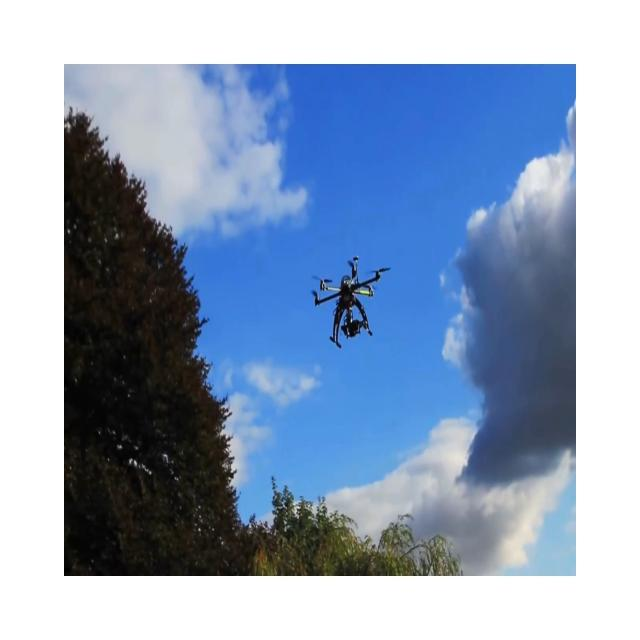drone: (310, 255, 390, 348)
